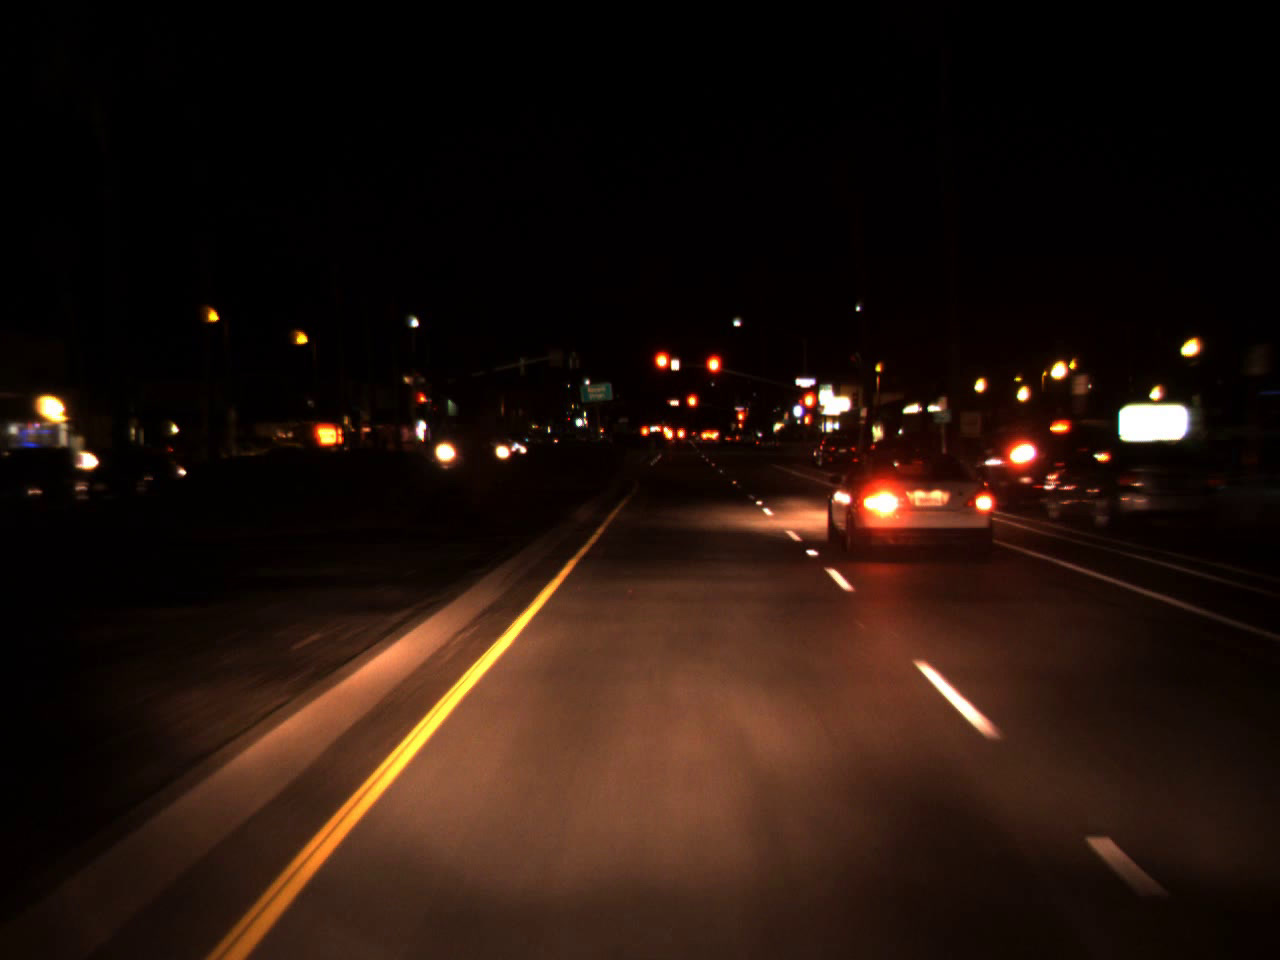stop: (703, 352, 724, 395), (801, 388, 819, 431), (653, 352, 668, 384), (736, 410, 746, 431), (417, 392, 427, 413), (687, 396, 696, 414)
